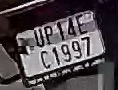1: (54, 22, 65, 43), (53, 47, 62, 66)
4: (67, 19, 77, 39)
7: (80, 36, 93, 58)
9: (61, 44, 72, 63), (71, 40, 81, 60)
C: (39, 48, 51, 70)
E: (75, 15, 90, 36)
P: (43, 25, 56, 46)
U: (34, 27, 45, 49)
